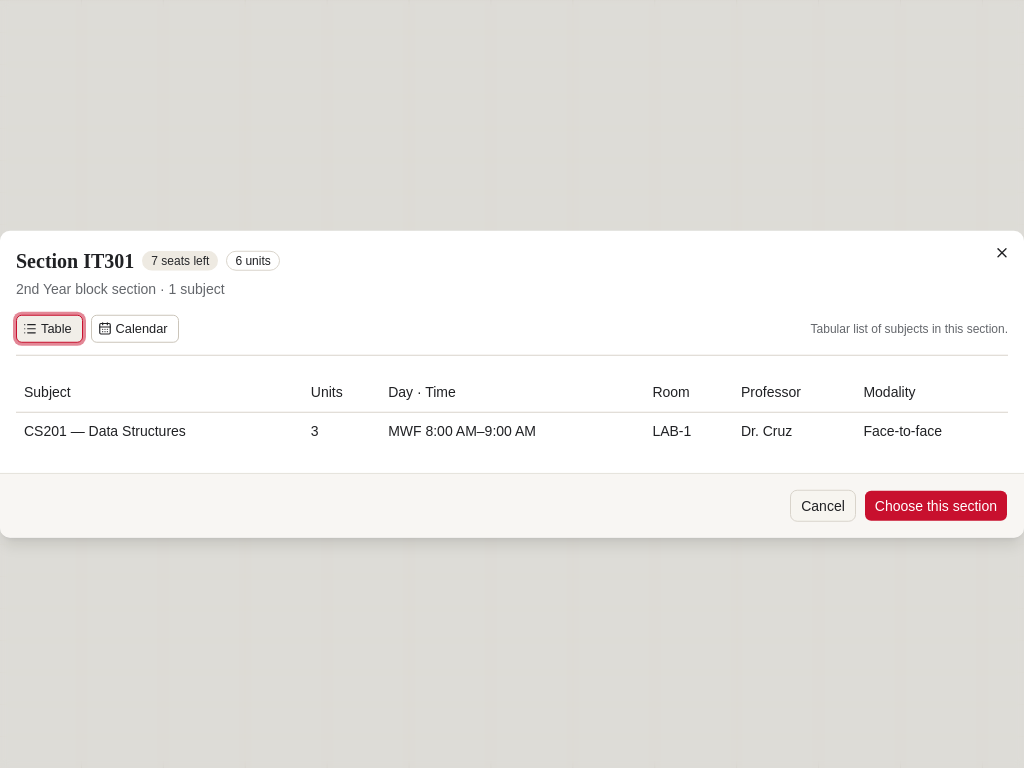
Test case: EnrollmentBlockDetailDialog › is labelled by the section code and shows the full weekly schedule defaulting to table view
Expected: the text "CS201 — Data Structures" is shown, 16,412 -> 303,448
Expected: the text "LAB-1" is shown, 644,412 -> 733,448
# Switch to Calendar view
Click the radio button with aria-label "Calendar view" at (135, 329), box 91,315 -> 178,343
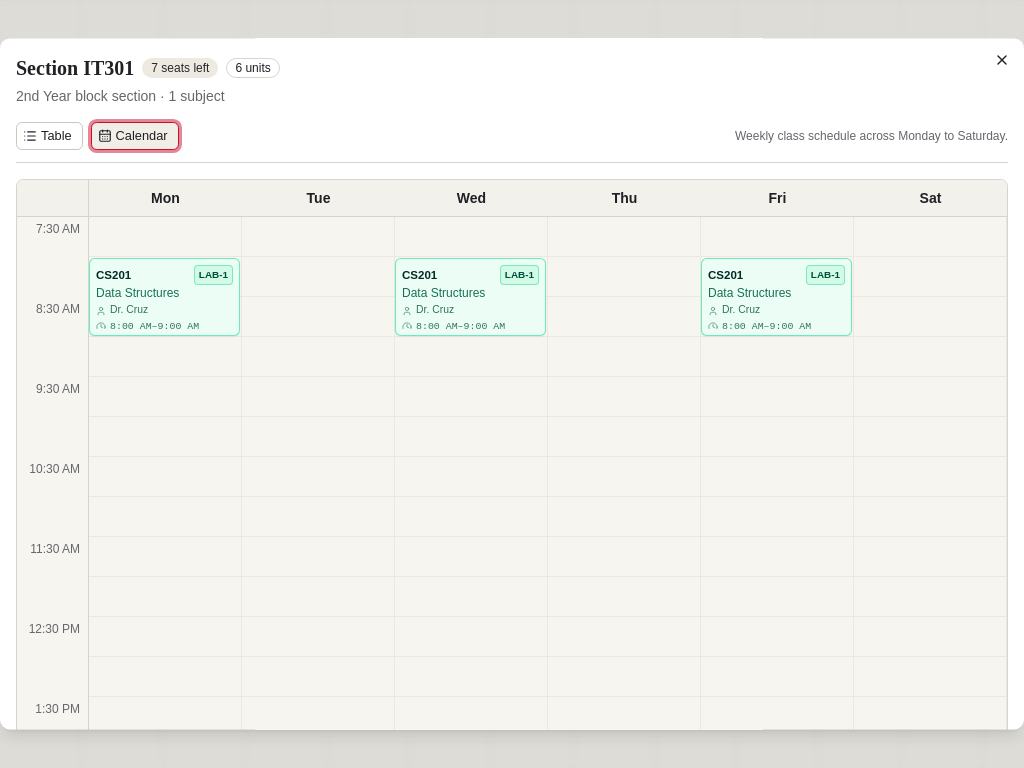
Expected: the 1st text "CS201" is shown, 96,267 -> 131,284
Expected: the 1st text "LAB-1" is shown, 194,265 -> 233,286
